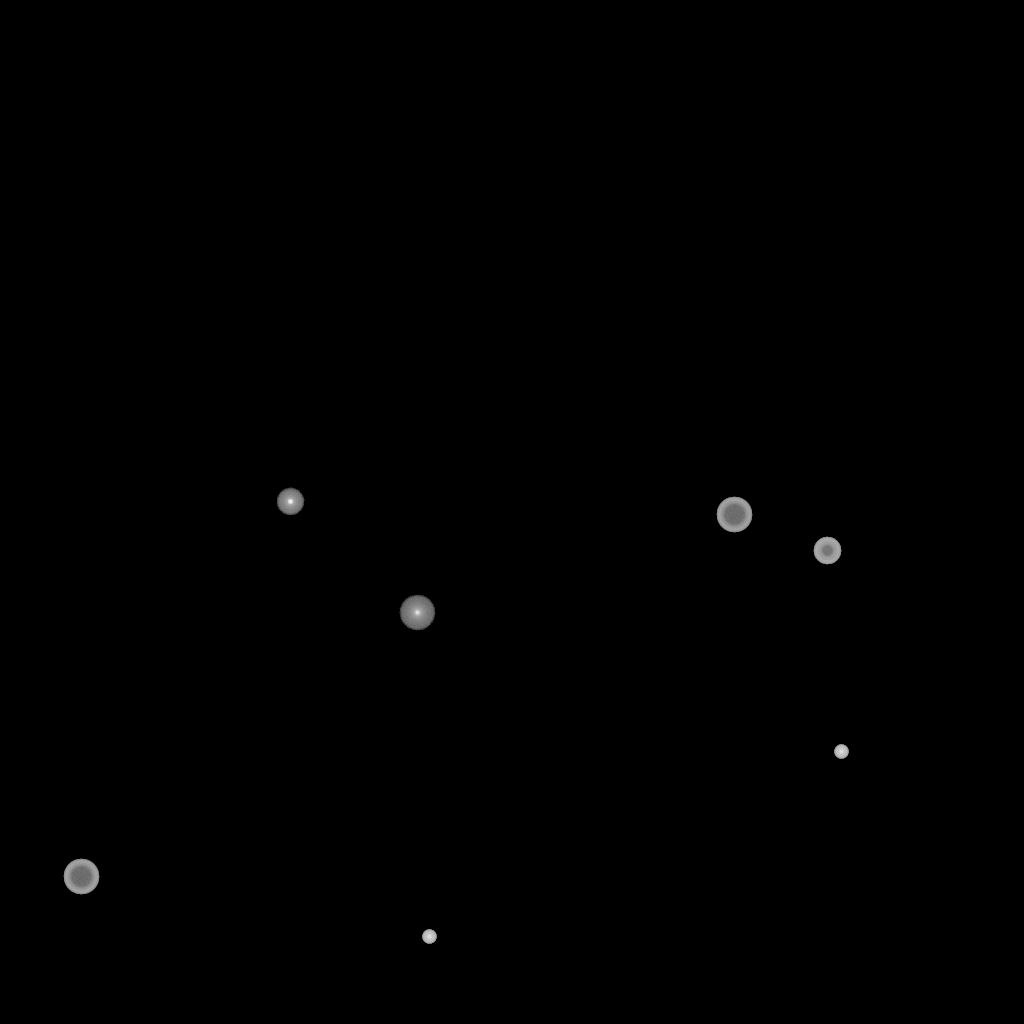depth:-10: (276, 488, 304, 516)
depth:-30: (834, 745, 848, 759), (422, 930, 436, 944)
depth:-50: (813, 537, 841, 565)
depth:-60: (63, 859, 99, 895), (716, 497, 752, 533)
depth:0: (399, 595, 435, 631)
